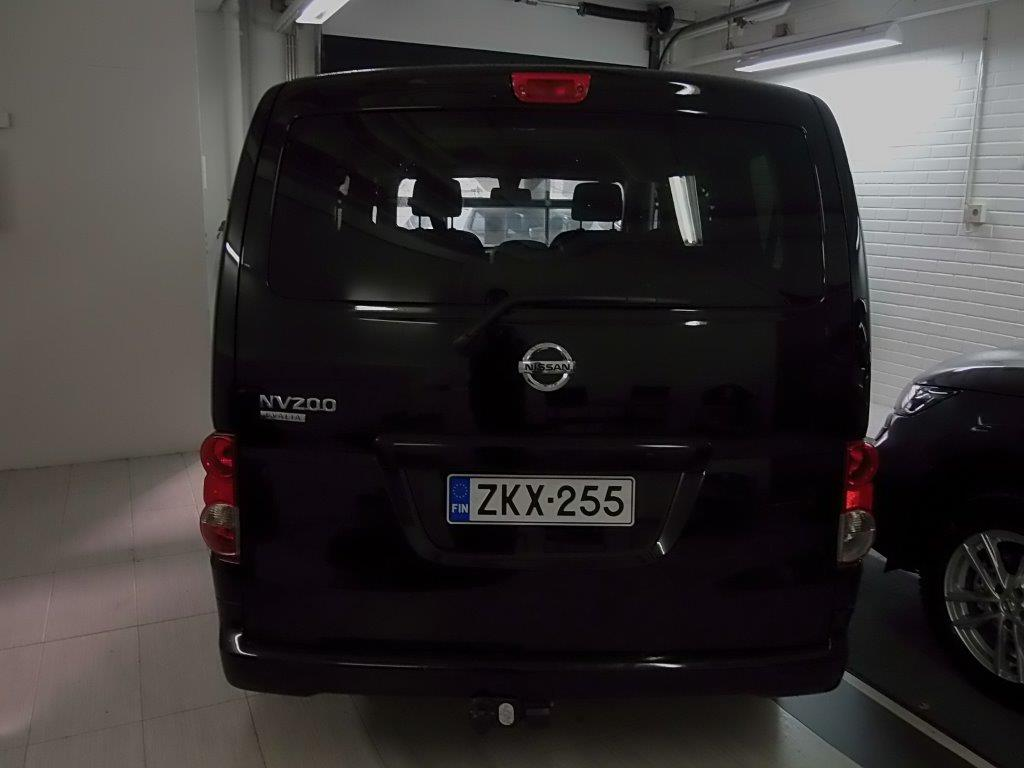license: (445, 472, 632, 528)
